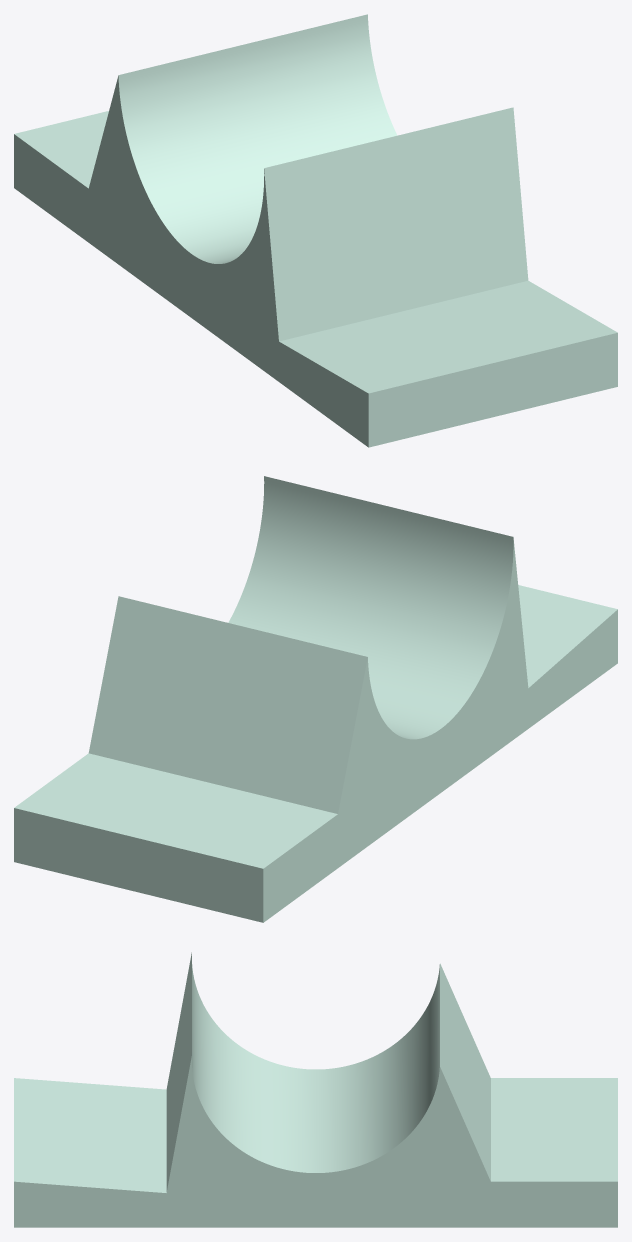
3 renders of one model, top to bottom at view 1: azimuth 30°, elevation 25°; view 2: azimuth 150°, elevation 25°; view 3: azimuth 270°, elevation 25°, orthographic. The views are drawn at different scales.
Visible parts, largest first — view 1: Renderer Node; view 2: Renderer Node; view 3: Renderer Node.
Part boxes in pixels (x1,y1,x2,y2): Renderer Node: (14, 14, 617, 447); Renderer Node: (14, 476, 617, 922); Renderer Node: (14, 952, 617, 1227).
Size of the model in its own units: 0.5234 by 0.4071 by 1.29.
